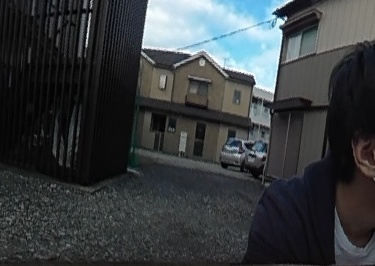person: (256, 32, 375, 266)
